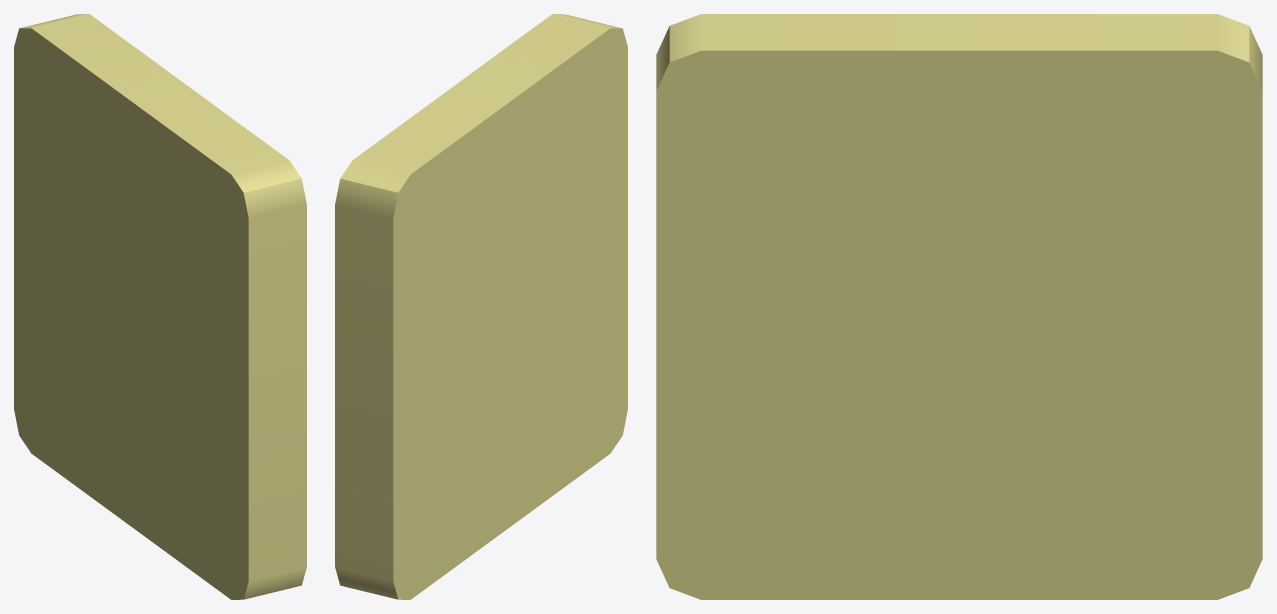
Rendered from butter slice.fbx.
The picture shows the model from 3 angles, left to right: view 1: azimuth 30°, elevation 25°; view 2: azimuth 150°, elevation 25°; view 3: azimuth 270°, elevation 25°; orthographic projection. The views are drawn at different scales.
Visible parts, largest first — view 1: pCube12; view 2: pCube12; view 3: pCube12.
Part boxes in pixels (x1,y1,x2,y2): pCube12: (14,14,306,599); pCube12: (335,14,627,599); pCube12: (656,14,1262,599).
Bounding box in the file's own units: 0.3827 × 2.67 × 2.67.
